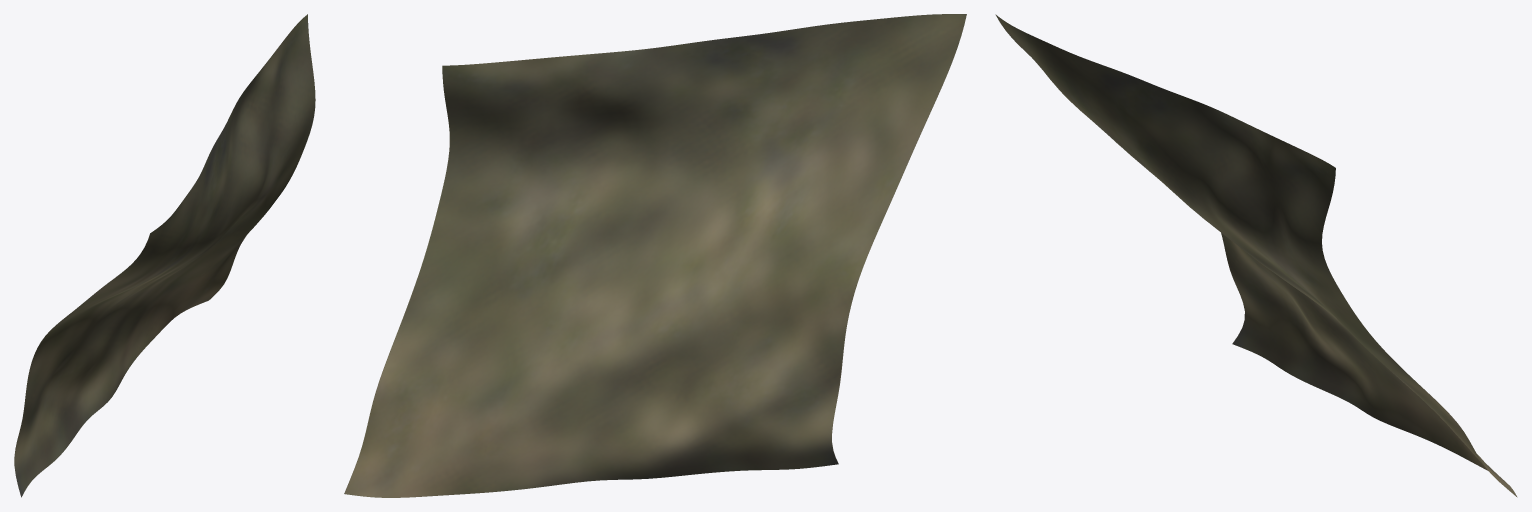
The model's file is ground_mid_02_05.obj.
3 views of the same model, side by side, from view 1: azimuth 30°, elevation 25°; view 2: azimuth 150°, elevation 25°; view 3: azimuth 270°, elevation 25° (orthographic). The views are drawn at different scales.
Visible parts, largest first — view 1: ground_mid_02_05; view 2: ground_mid_02_05; view 3: ground_mid_02_05.
Boxes of the visible parts, x1,y1,x2,y2 form: ground_mid_02_05: [14, 14, 315, 497]; ground_mid_02_05: [344, 14, 966, 497]; ground_mid_02_05: [995, 14, 1517, 497].
Bounding box in the file's own units: 200 × 200 × 287.
Materials: 1 (1 with a texture image).
